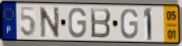1: (143, 7, 154, 42)
5: (19, 6, 37, 39)
B: (89, 7, 112, 40)
G: (67, 7, 87, 40), (120, 8, 140, 40)
N: (38, 6, 61, 39)
